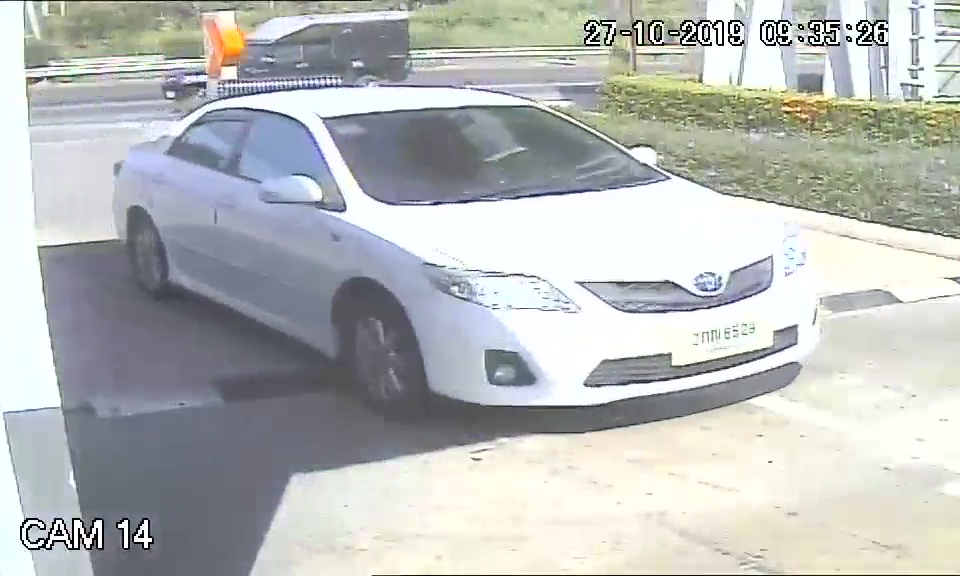sedan: (103, 85, 837, 415)
